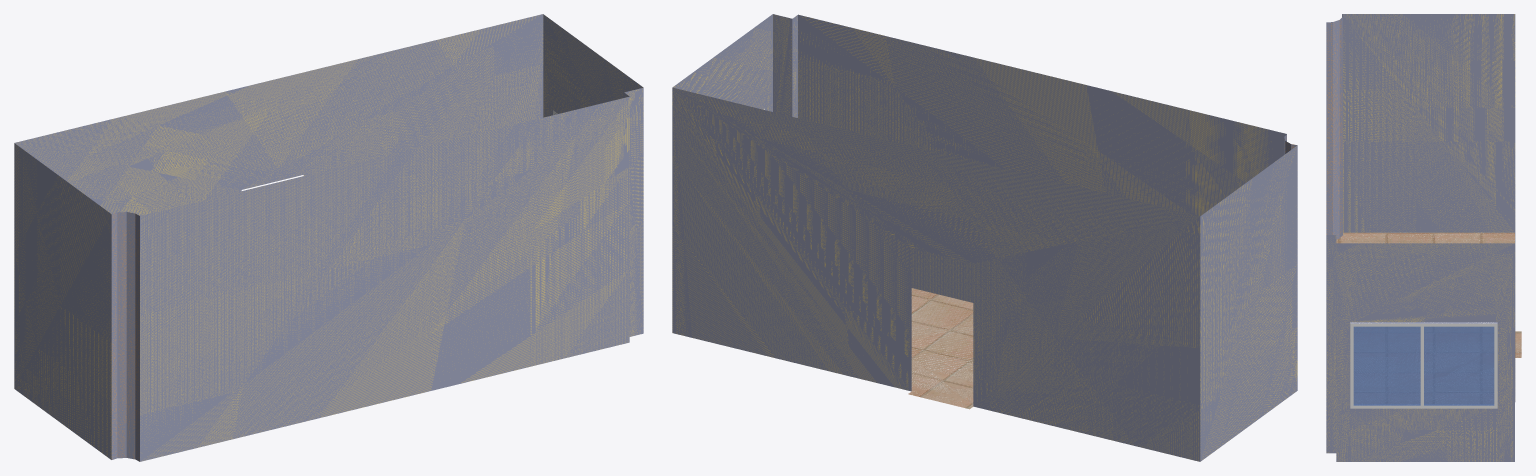
Rendered from DES008.obj.
The picture shows the model from 3 angles, left to right: view 1: azimuth 30°, elevation 25°; view 2: azimuth 150°, elevation 25°; view 3: azimuth 270°, elevation 25°; orthographic projection. The views are drawn at different scales.
Visible parts, largest first — view 1: Mesh6 DES008 Model; view 2: Mesh6 DES008 Model; view 3: Mesh6 DES008 Model, Mesh1 ventana2_1 DES008 Model.
Part boxes in pixels (x1=…): Mesh6 DES008 Model: x1=14, y1=14, x2=643, y2=461; Mesh6 DES008 Model: x1=672, y1=14, x2=1297, y2=461; Mesh6 DES008 Model: x1=1326, y1=14, x2=1521, y2=461; Mesh1 ventana2_1 DES008 Model: x1=1350, y1=322, x2=1497, y2=408.
Bounding box in the file's own units: 8.15 × 3.6 × 2.92.
9 materials, 2 textured.
